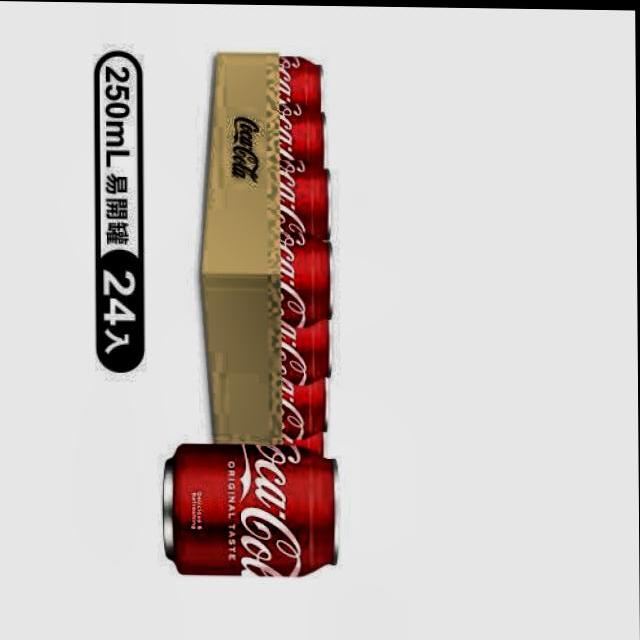Aluminum Can: (153, 438, 347, 582), (274, 236, 338, 330), (269, 313, 341, 389), (274, 163, 338, 244), (268, 48, 330, 119), (276, 369, 334, 443), (276, 110, 334, 174)
